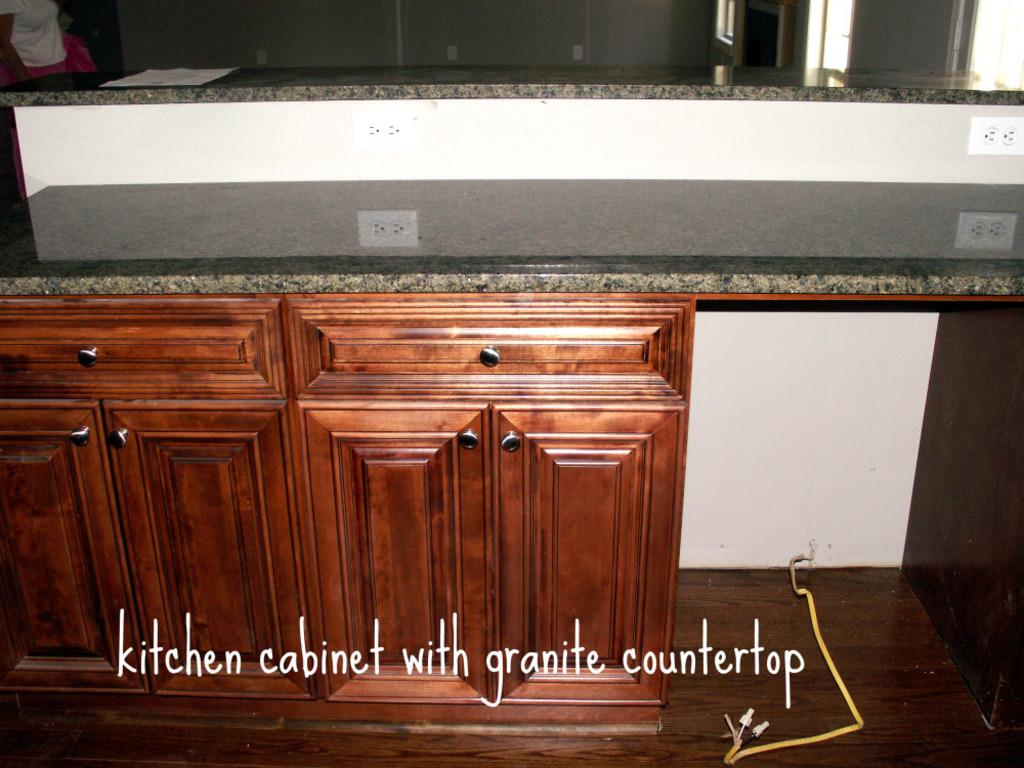cabinet_door: (301, 404, 476, 674), (111, 422, 291, 666), (506, 412, 658, 678), (310, 308, 680, 390), (4, 410, 102, 664), (4, 318, 264, 400)
handle: (454, 417, 486, 458), (500, 422, 526, 458), (476, 339, 502, 370), (104, 422, 134, 447), (66, 416, 90, 447), (77, 338, 100, 366)
